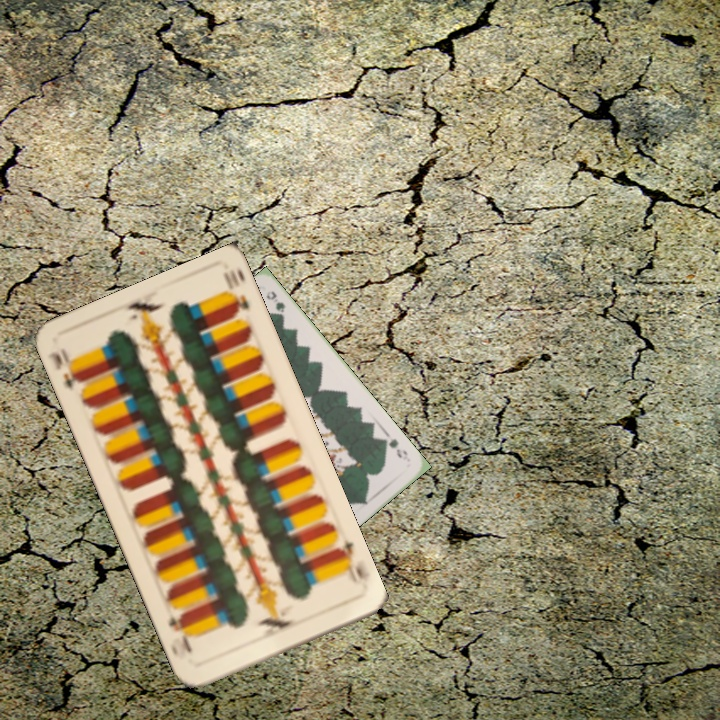E10: (330, 536, 371, 592), (46, 344, 87, 392)
G9: (378, 434, 411, 463)
